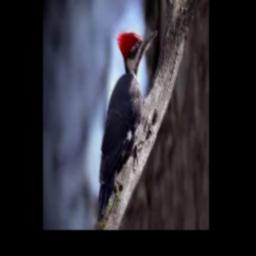Woodpecker: (97, 30, 157, 219)
